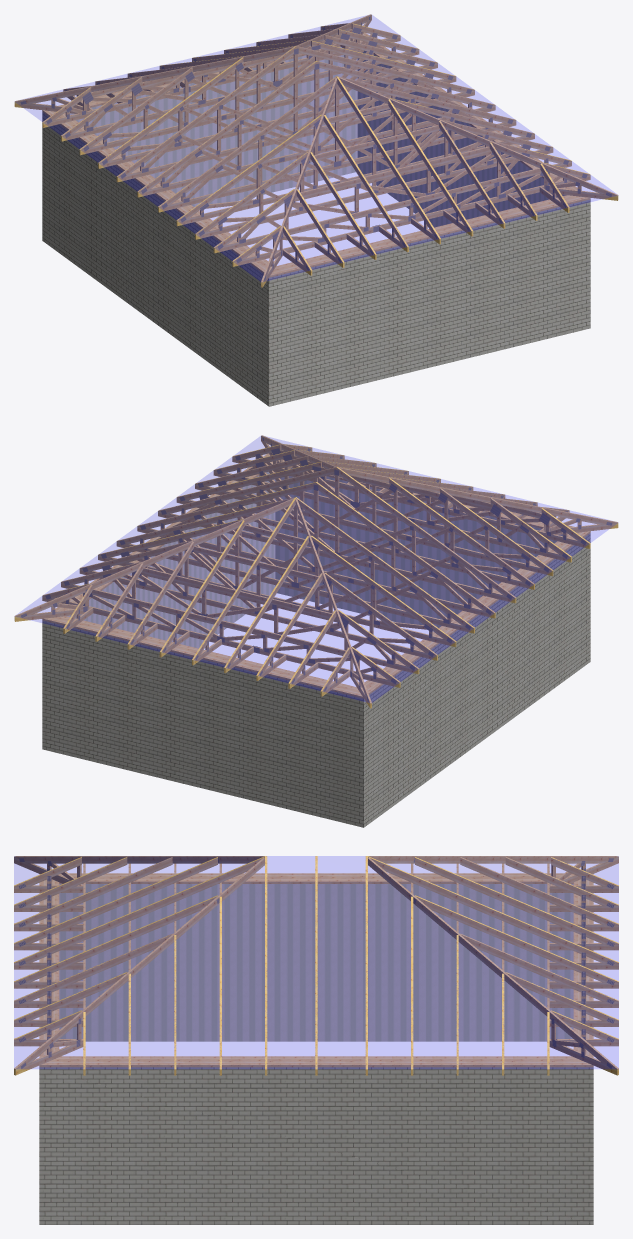
3 renders of one model, top to bottom at view 1: azimuth 30°, elevation 25°; view 2: azimuth 150°, elevation 25°; view 3: azimuth 270°, elevation 25°, orthographic. The views are drawn at different scales.
Visible parts, largest first — view 1: skfb_offset; view 2: skfb_offset; view 3: skfb_offset.
Boxes of the visible parts, x1=… form: skfb_offset: x1=14, y1=14, x2=618, y2=406; skfb_offset: x1=14, y1=435, x2=618, y2=827; skfb_offset: x1=14, y1=856, x2=618, y2=1224.
Size of the model in its own units: 10000 by 5972 by 12000.
Materials: 6 (5 with a texture image).
